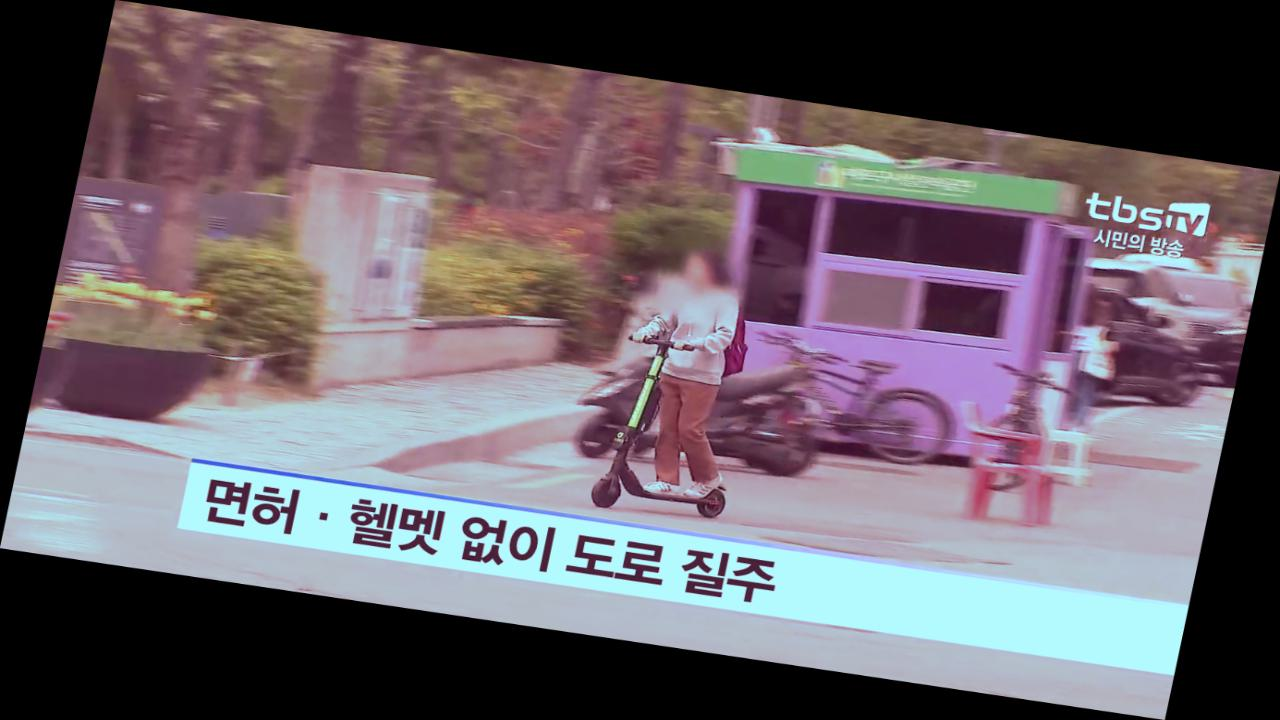nonhelmet: (588, 240, 783, 525)
